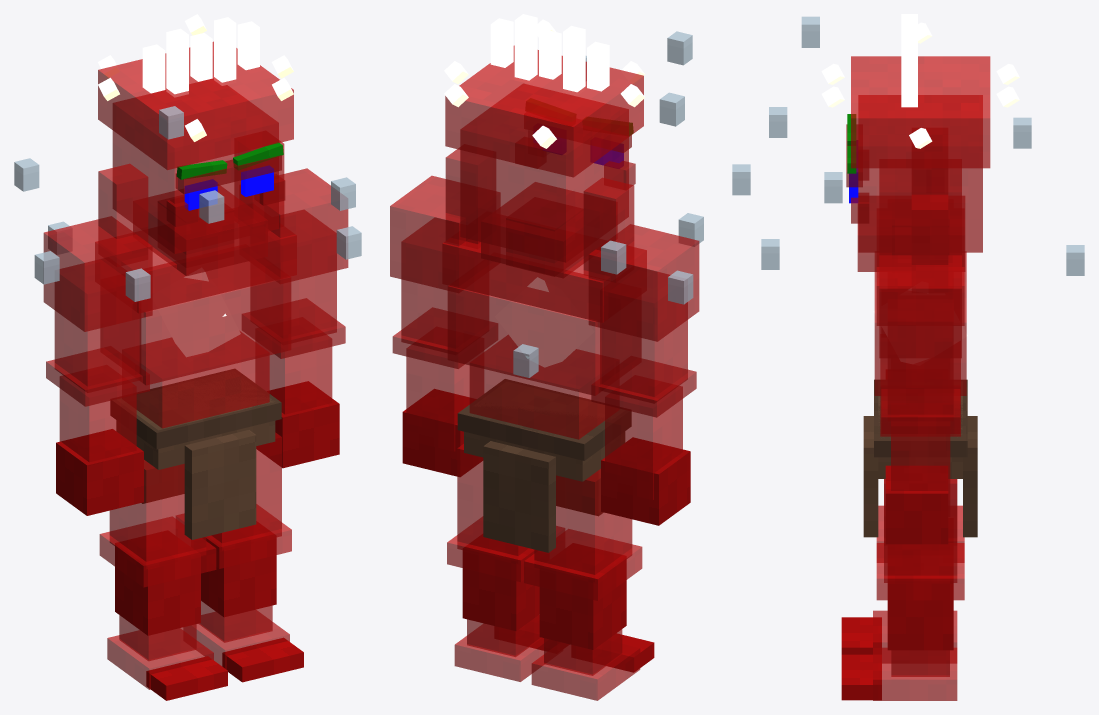
File: spirit_s1_evo2.glb
3 renders of one model, left to right at view 1: azimuth 30°, elevation 25°; view 2: azimuth 150°, elevation 25°; view 3: azimuth 270°, elevation 25°, orthographic.
Visible parts, largest first — view 1: Torso, Head, ArmR, ArmL, LegR, LegL; view 2: Torso, Head, ArmR, ArmL, LegR, LegL; view 3: Head, ArmL, Torso, LegL, LegR, ArmR.
Boxes of the visible parts, bbox=[...] form: Torso: bbox=[14, 106, 361, 539]; Head: bbox=[98, 14, 293, 276]; ArmR: bbox=[43, 216, 152, 515]; ArmL: bbox=[242, 168, 348, 468]; LegR: bbox=[99, 460, 227, 700]; LegL: bbox=[176, 432, 303, 682]; Torso: bbox=[442, 31, 703, 552]; Head: bbox=[444, 14, 645, 282]; ArmR: bbox=[588, 224, 699, 525]; ArmL: bbox=[390, 175, 499, 476]; LegR: bbox=[524, 469, 654, 700]; LegL: bbox=[447, 444, 564, 681]; Head: bbox=[821, 14, 1019, 292]; ArmL: bbox=[879, 255, 961, 544]; Torso: bbox=[732, 16, 1084, 537]; LegL: bbox=[841, 479, 964, 700]; LegR: bbox=[841, 479, 964, 662]; ArmR: bbox=[880, 168, 961, 195].
Size of the model in its own units: 0.8888 by 1.91 by 0.9602.
20 materials, 20 textured.
